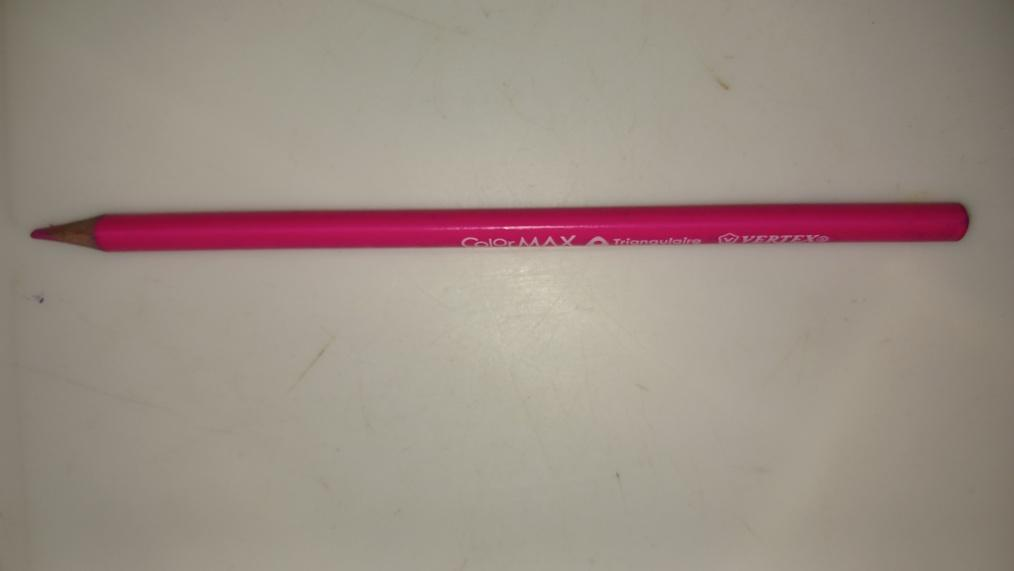Pencil: (28, 205, 991, 252)
